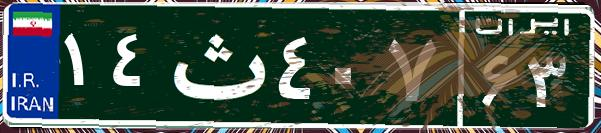0: (330, 28, 385, 110)
1: (57, 26, 110, 107)
3: (525, 38, 570, 115)
4: (273, 28, 330, 110), (110, 28, 158, 105)
6: (475, 38, 525, 113)
7: (385, 28, 445, 110)
ث: (158, 15, 273, 115)
